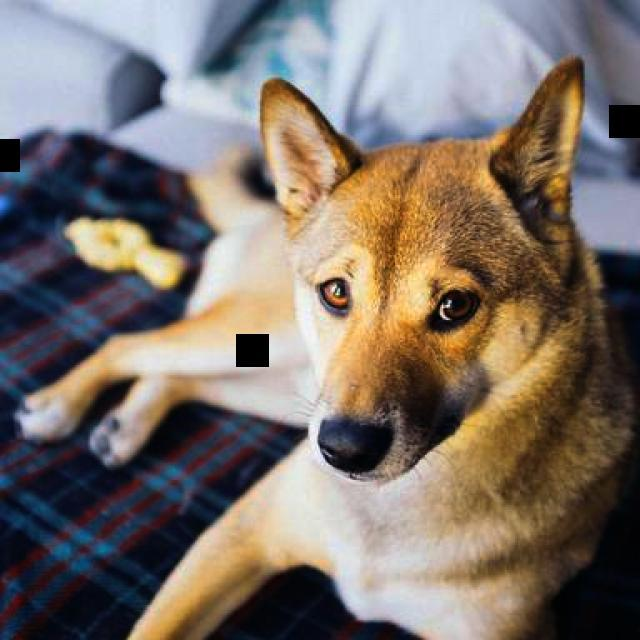adult_dog: (14, 53, 640, 640)
